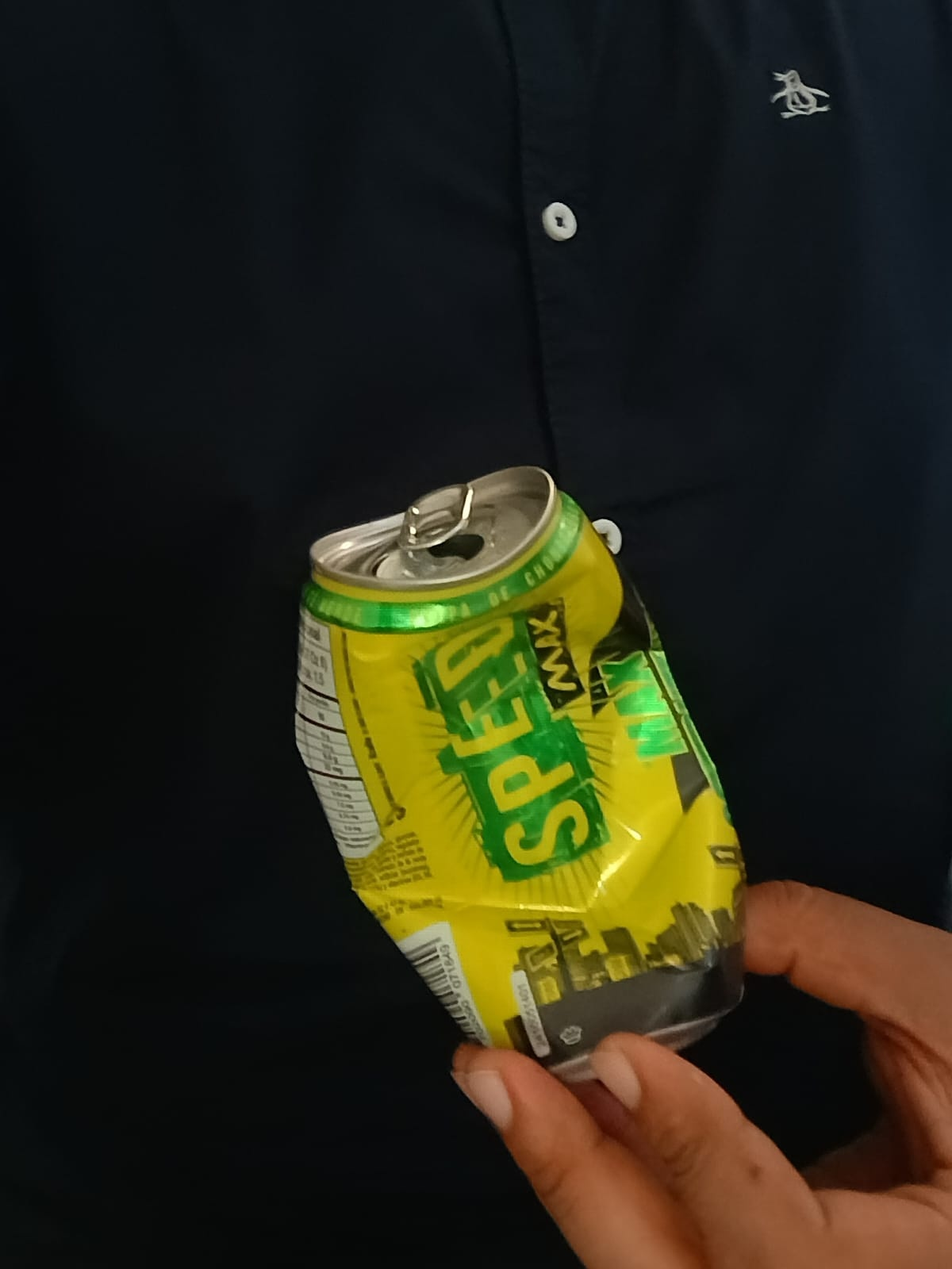Metal: (299, 464, 752, 1080)
